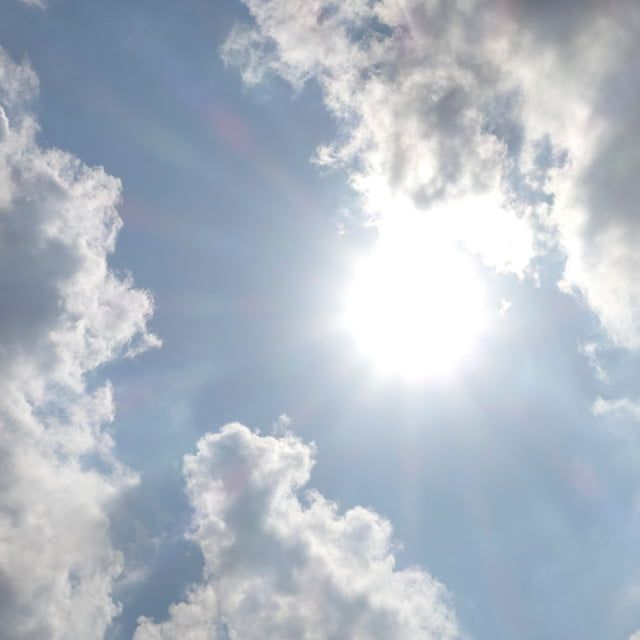sun: (294, 207, 529, 424)
